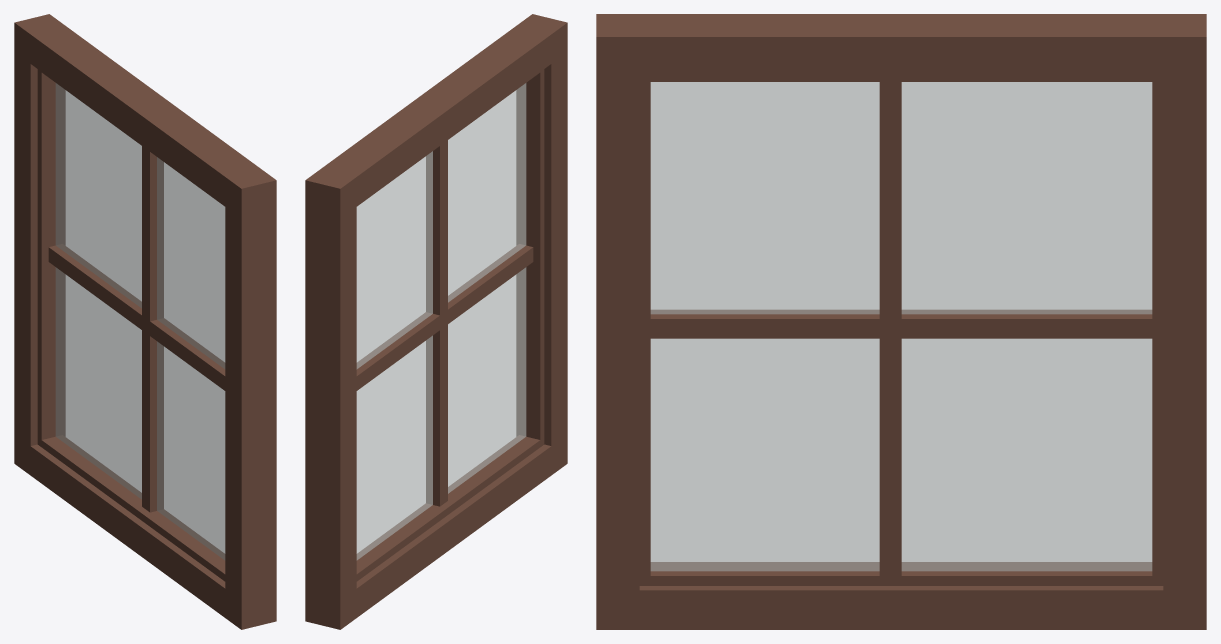
File: Window2.glb
The picture shows the model from 3 angles, left to right: view 1: azimuth 30°, elevation 25°; view 2: azimuth 150°, elevation 25°; view 3: azimuth 270°, elevation 25°; orthographic projection. The views are drawn at different scales.
Parts seen in each view (by area): view 1: Node; view 2: Node; view 3: Node.
Boxes of the visible parts, box(x1,y1,x2,y2) form: Node: box(14, 14, 276, 629); Node: box(305, 14, 567, 629); Node: box(596, 14, 1206, 629).
Bounding box in the file's own units: 0.05 × 0.6 × 0.56.
